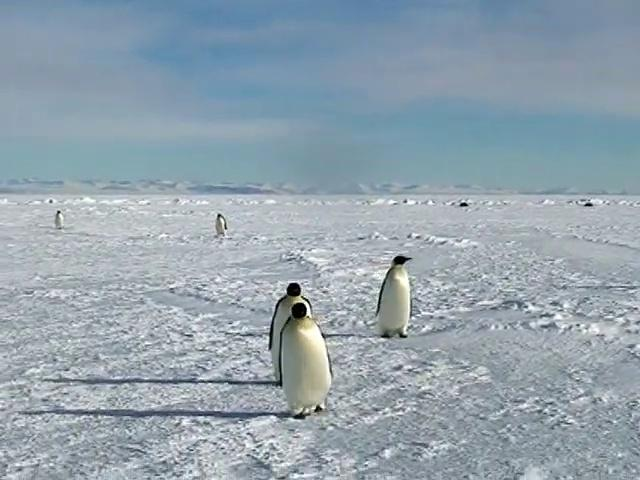animal: (376, 256, 411, 337)
